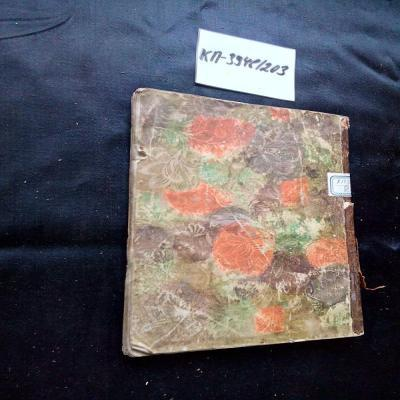rare_books: (121, 90, 366, 358)
